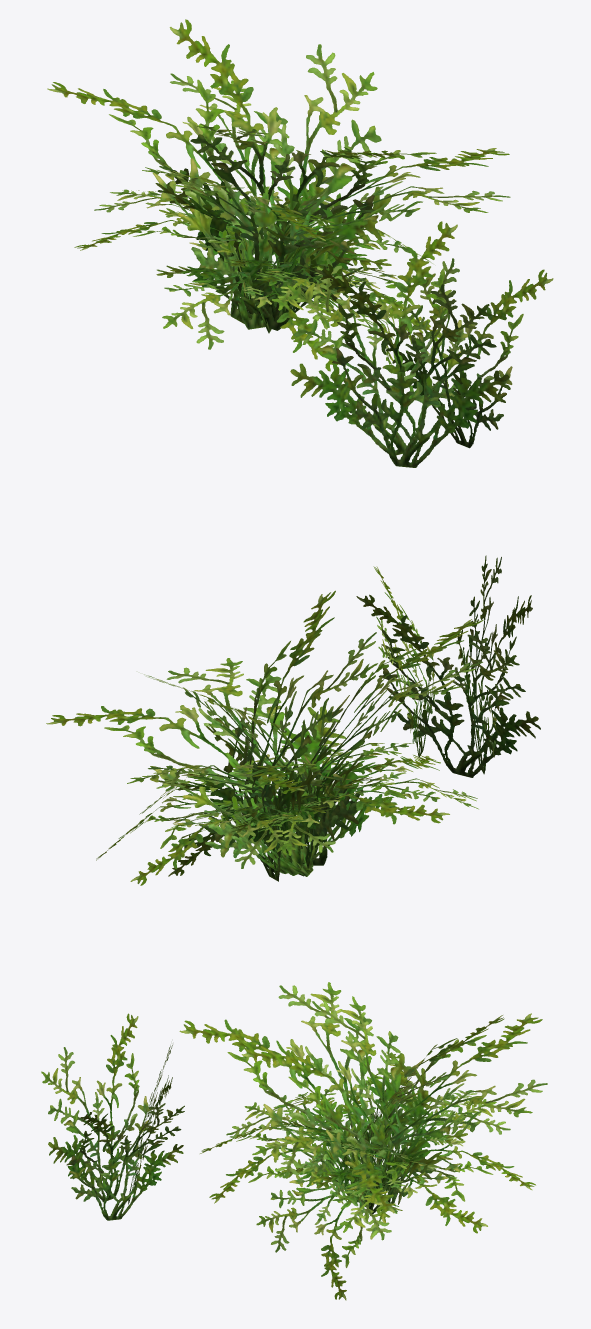
The model's file is zhi_wu_001.FBX.
The picture shows the model from 3 angles, top to bottom: view 1: azimuth 30°, elevation 25°; view 2: azimuth 150°, elevation 25°; view 3: azimuth 270°, elevation 25°; orthographic projection. The views are drawn at different scales.
Visible parts, largest first — view 1: zhi_wu_001_b, zhi_wu_001_a; view 2: zhi_wu_001_b, zhi_wu_001_a; view 3: zhi_wu_001_b, zhi_wu_001_a.
Part boxes in pixels (x1=…): zhi_wu_001_b: x1=47, y1=19, x2=510, y2=376; zhi_wu_001_a: x1=287, y1=221, x2=553, y2=467; zhi_wu_001_b: x1=46, y1=590, x2=483, y2=885; zhi_wu_001_a: x1=356, y1=555, x2=540, y2=777; zhi_wu_001_b: x1=179, y1=982, x2=547, y2=1300; zhi_wu_001_a: x1=41, y1=1013, x2=184, y2=1220.
Bounding box in the file's own units: 380 × 249 × 506.
Materials: 1 (1 with a texture image).
